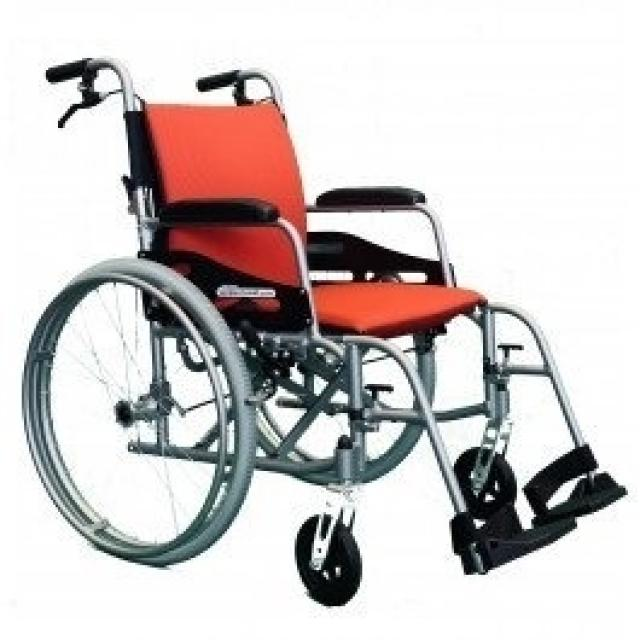wheelchair: (27, 39, 632, 615)
